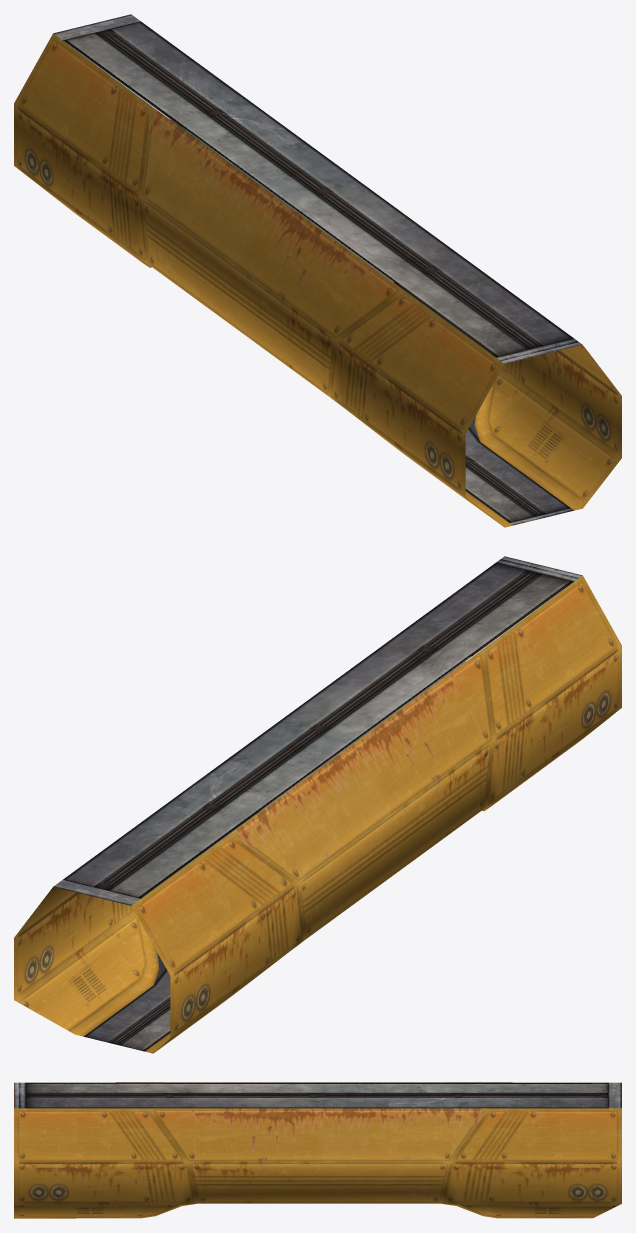
File: ARC_Girder_LaterallA.FBX
The picture shows the model from 3 angles, top to bottom: view 1: azimuth 30°, elevation 25°; view 2: azimuth 150°, elevation 25°; view 3: azimuth 270°, elevation 25°; orthographic projection. The views are drawn at different scales.
Parts seen in each view (by area): view 1: ARC_Girder_LaterallA; view 2: ARC_Girder_LaterallA; view 3: ARC_Girder_LaterallA.
Part boxes in pixels (x1,y1,x2,y2): ARC_Girder_LaterallA: (14, 14, 621, 527); ARC_Girder_LaterallA: (14, 556, 621, 1053); ARC_Girder_LaterallA: (14, 1082, 621, 1218).
Bounding box in the file's own units: 100 × 100 × 500.
Materials: 1 (1 with a texture image).
